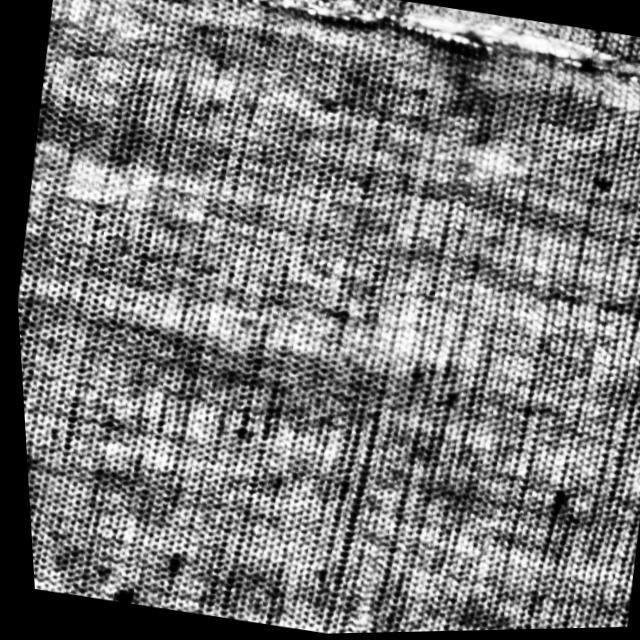Stitch: (264, 0, 640, 121)
